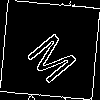M: (24, 24, 86, 86)
